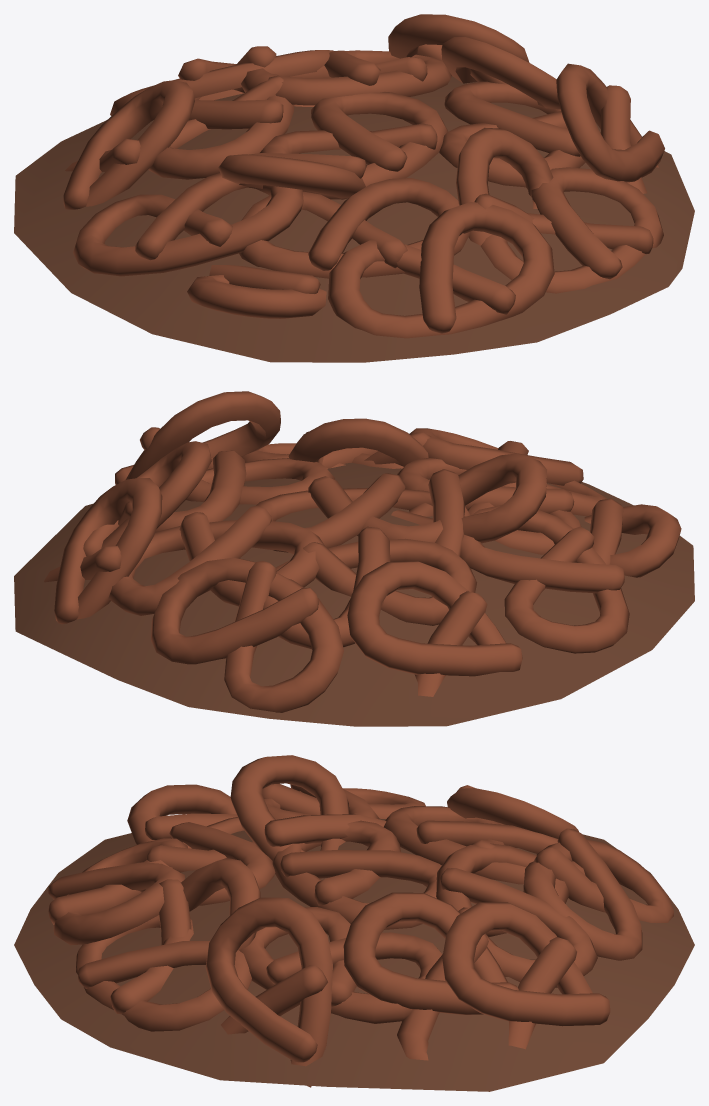
File: Bowl_01_Pretzel.fbx
The picture shows the model from 3 angles, top to bottom: view 1: azimuth 30°, elevation 25°; view 2: azimuth 150°, elevation 25°; view 3: azimuth 270°, elevation 25°; orthographic projection. The views are drawn at different scales.
Parts seen in each view (by area): view 1: Bowl_01_Pretzel; view 2: Bowl_01_Pretzel; view 3: Bowl_01_Pretzel.
Boxes of the visible parts, x1=… form: Bowl_01_Pretzel: x1=14, y1=14, x2=694, y2=362; Bowl_01_Pretzel: x1=14, y1=391, x2=694, y2=726; Bowl_01_Pretzel: x1=14, y1=755, x2=694, y2=1091.
Size of the model in its own units: 0.2692 by 0.0649 by 0.2732.
